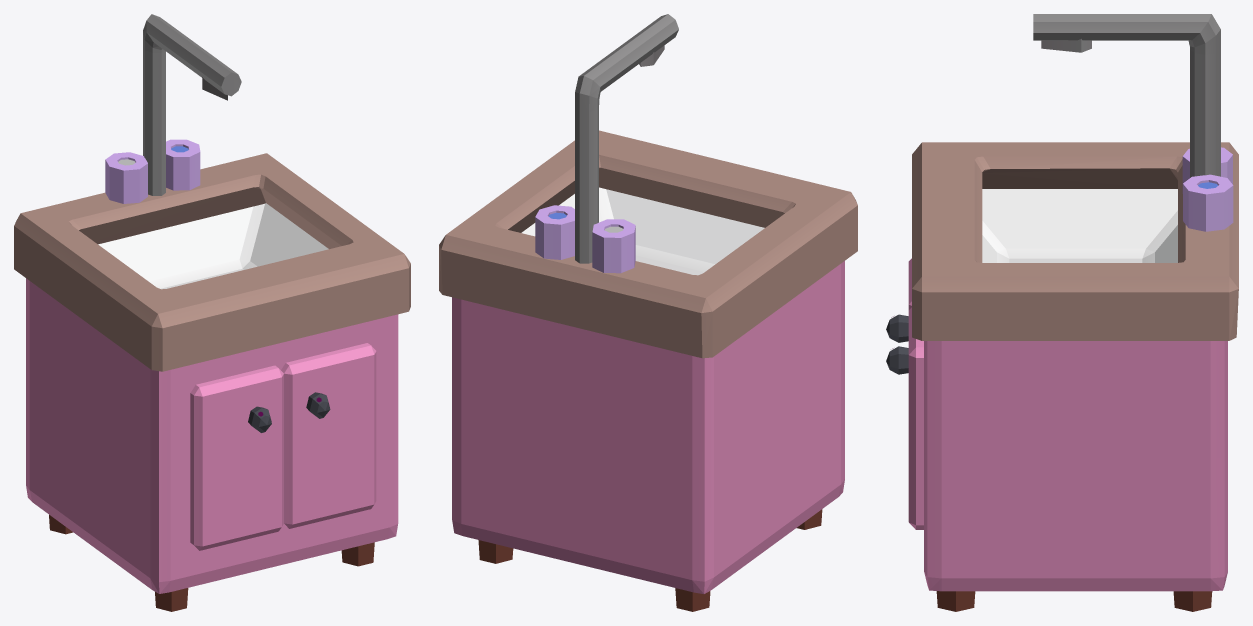
Rendered from watertap.fbx.
The picture shows the model from 3 angles, left to right: view 1: azimuth 30°, elevation 25°; view 2: azimuth 150°, elevation 25°; view 3: azimuth 270°, elevation 25°; orthographic projection. The views are drawn at different scales.
Parts seen in each view (by area): view 1: watertap; view 2: watertap; view 3: watertap.
Part boxes in pixels (box(x1,y1,x2,y2)): watertap: box(14, 14, 410, 611); watertap: box(439, 14, 857, 611); watertap: box(886, 14, 1238, 611).
Size of the model in its own units: 55.01 by 97.97 by 58.04.
